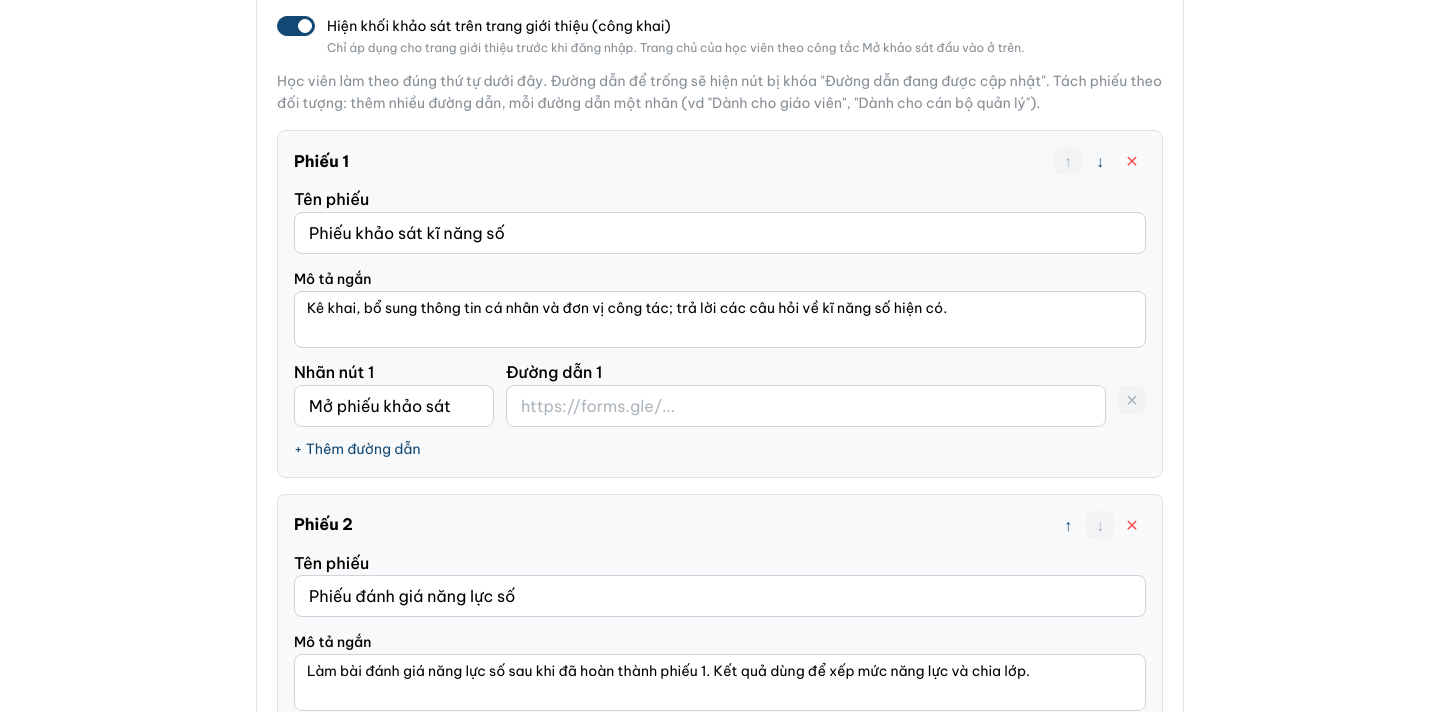
Test: Admin — Cấu hình khảo sát › đường dẫn không phải http(s) -> báo lỗi tại ô, không gửi PUT
(page scrolled)
In the 1st field labelled "Đường dẫn 1": x=806, y=406 [506,385,1106,427], type "forms.gle/abc"
(page scrolled)
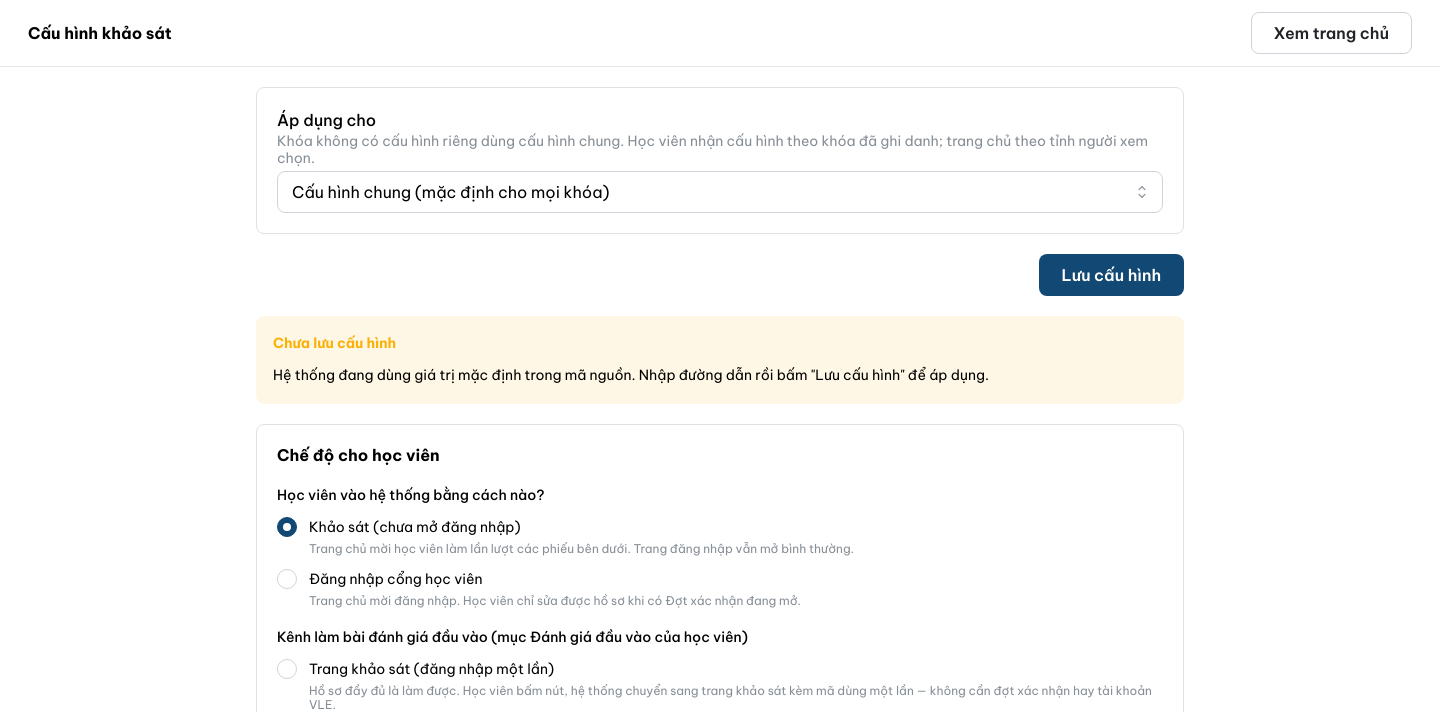
Click the button "Lưu cấu hình": x=1111, y=275 [1039,254,1184,296]
(page scrolled)
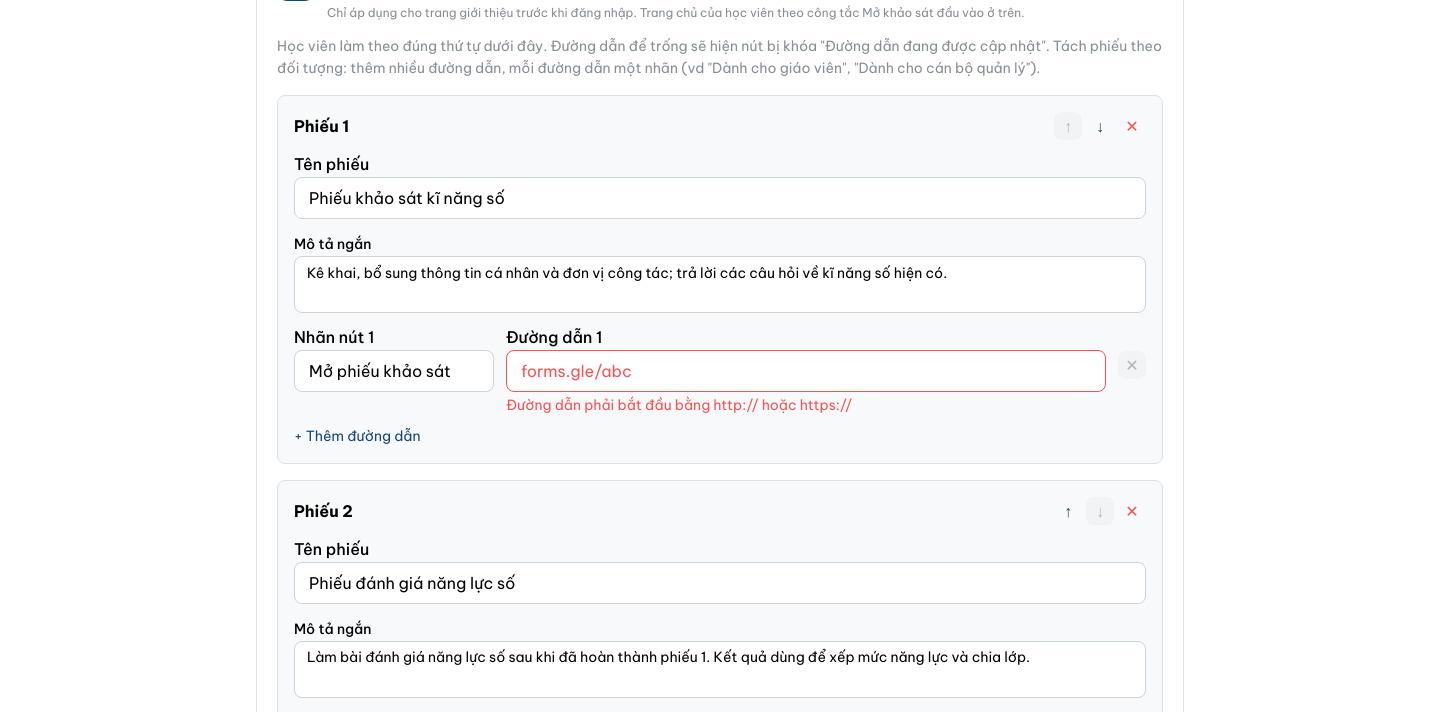
Check: the text "Đường dẫn phải bắt đầu bằng http:// hoặc https://" is shown, box [506,396,852,414]
